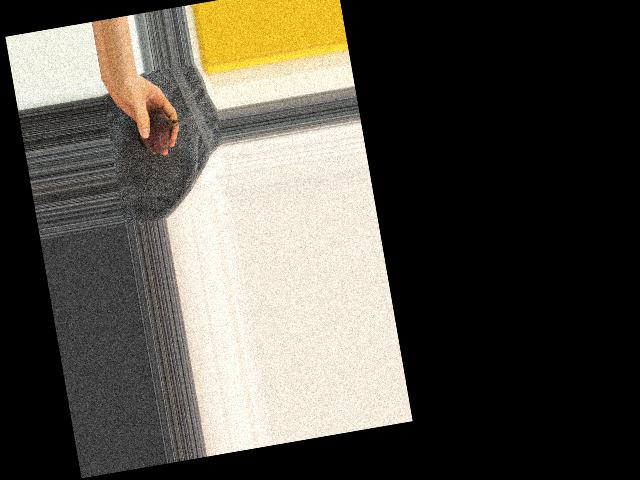beet: (133, 106, 200, 156)
